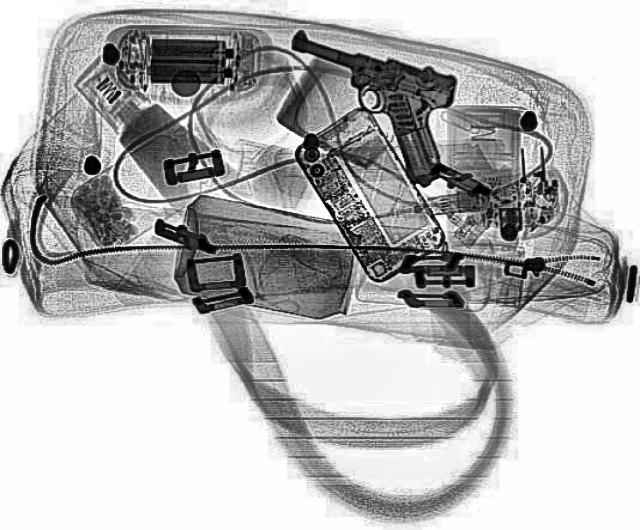Gun: (245, 32, 481, 186)
